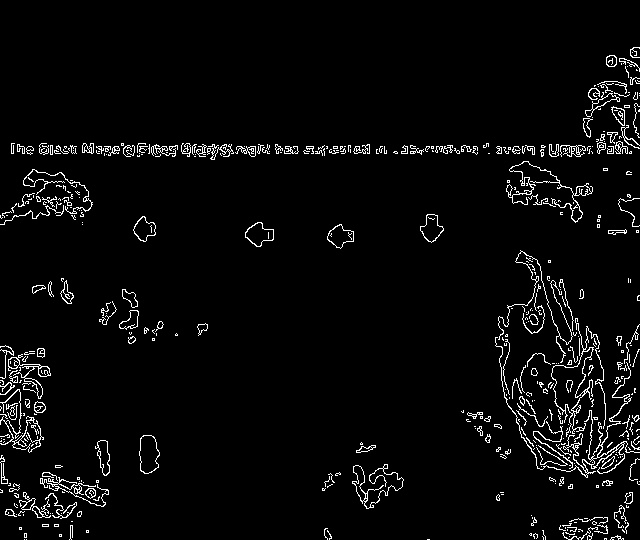down: (412, 208, 456, 254)
left: (123, 209, 167, 252), (234, 218, 280, 252), (319, 219, 361, 254)
